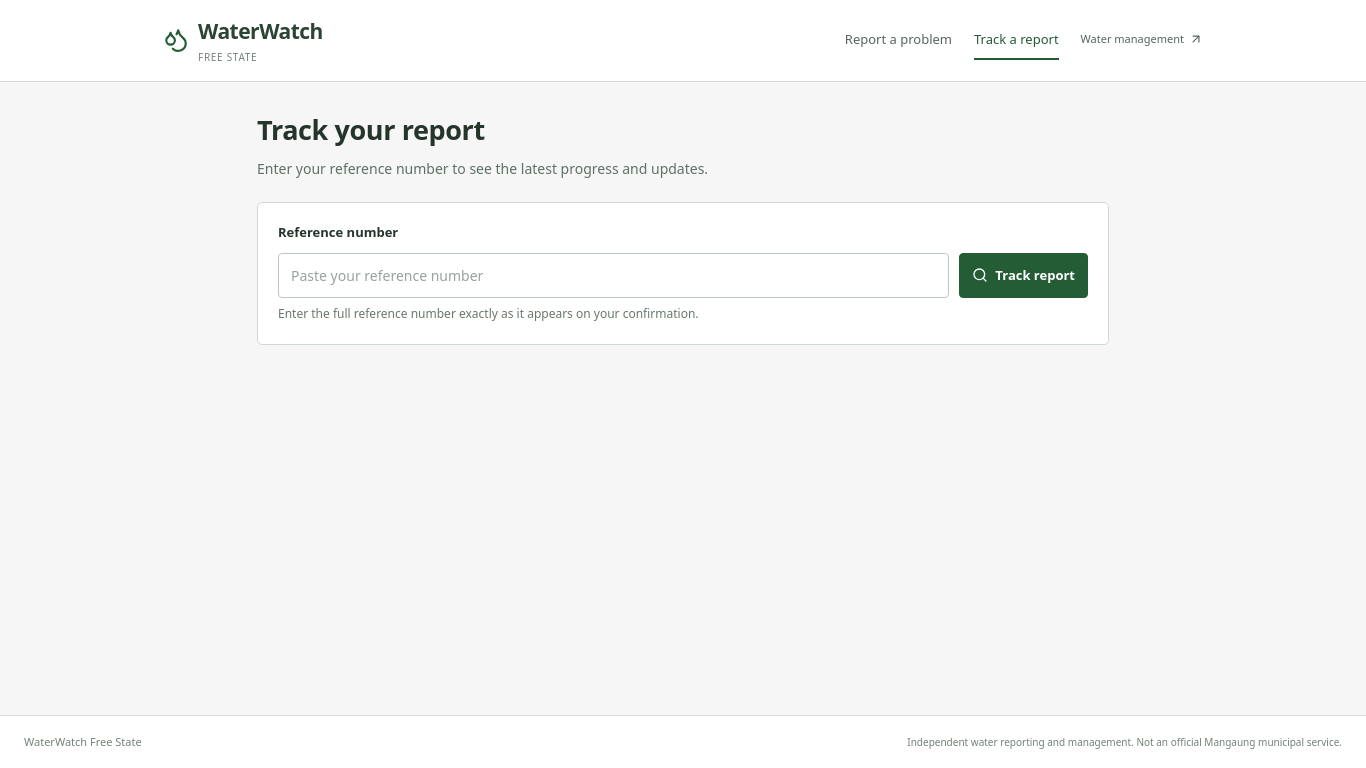
Test: resident tracking › retrieves the requested report without loading other citizen reports
This screenshot has width=1366, height=768.
Click the field labelled "Reference number". click: (614, 275)
box: [278, 253, 949, 298]
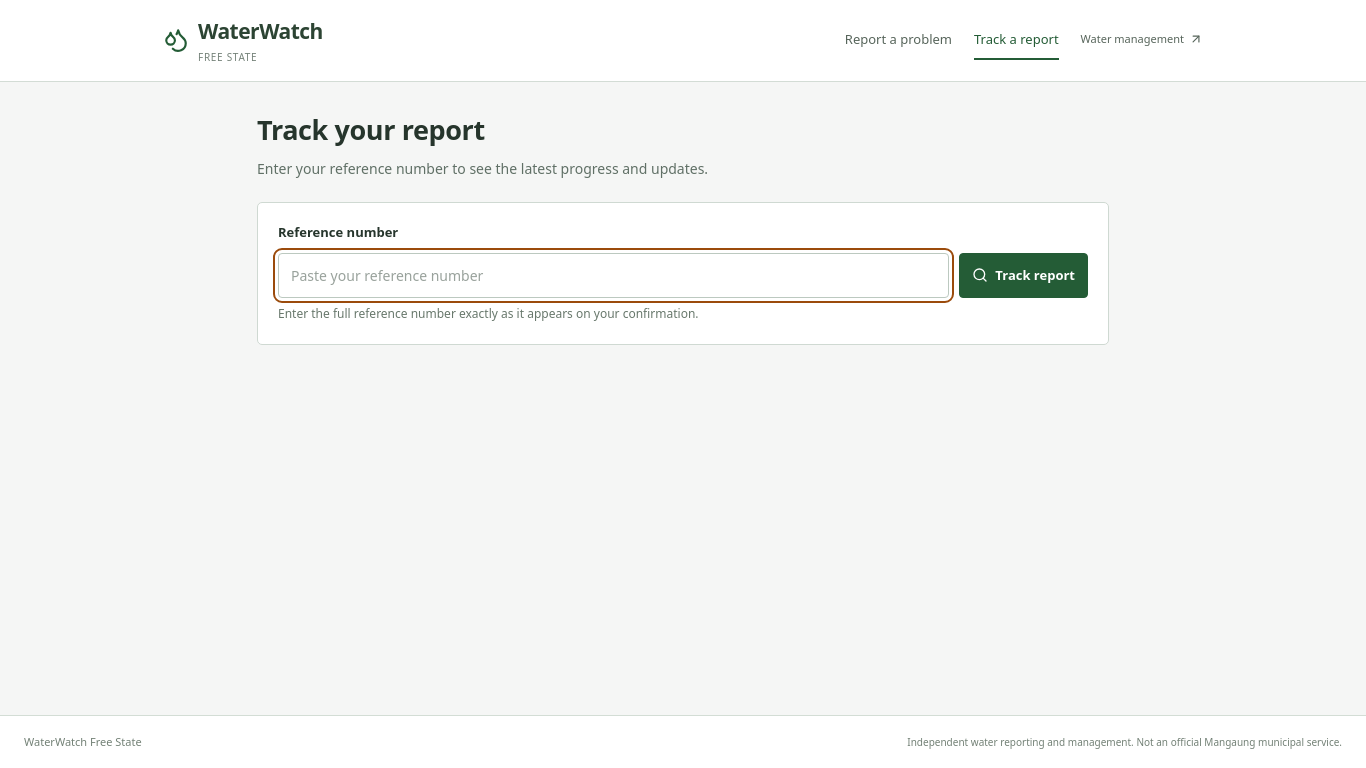
Type keys "40ac8cb2-20d8-4bfa-8f4d-74f466767236"
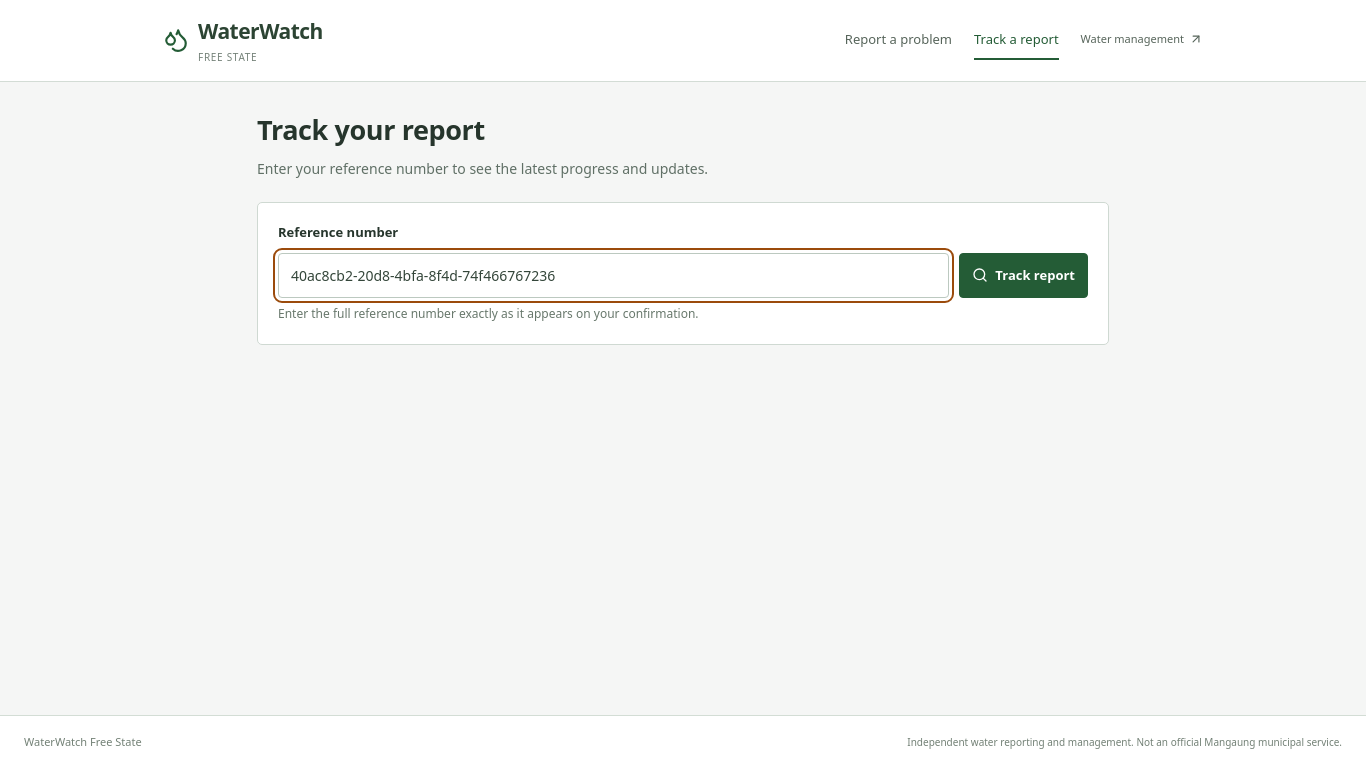
Click the button "Track report". click: (1024, 275)
box: [959, 253, 1088, 298]
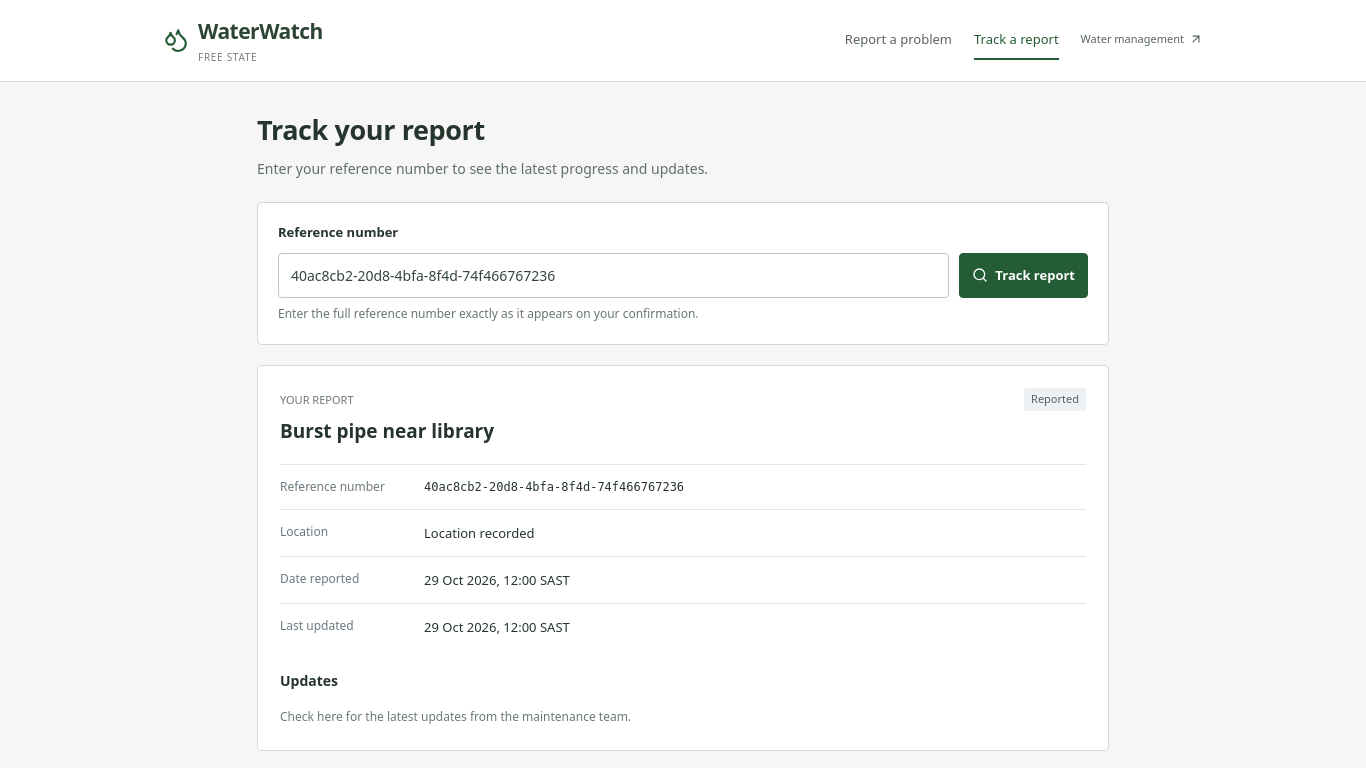
Expected: the heading "Burst pipe near library" is shown, [280, 417, 494, 446]
